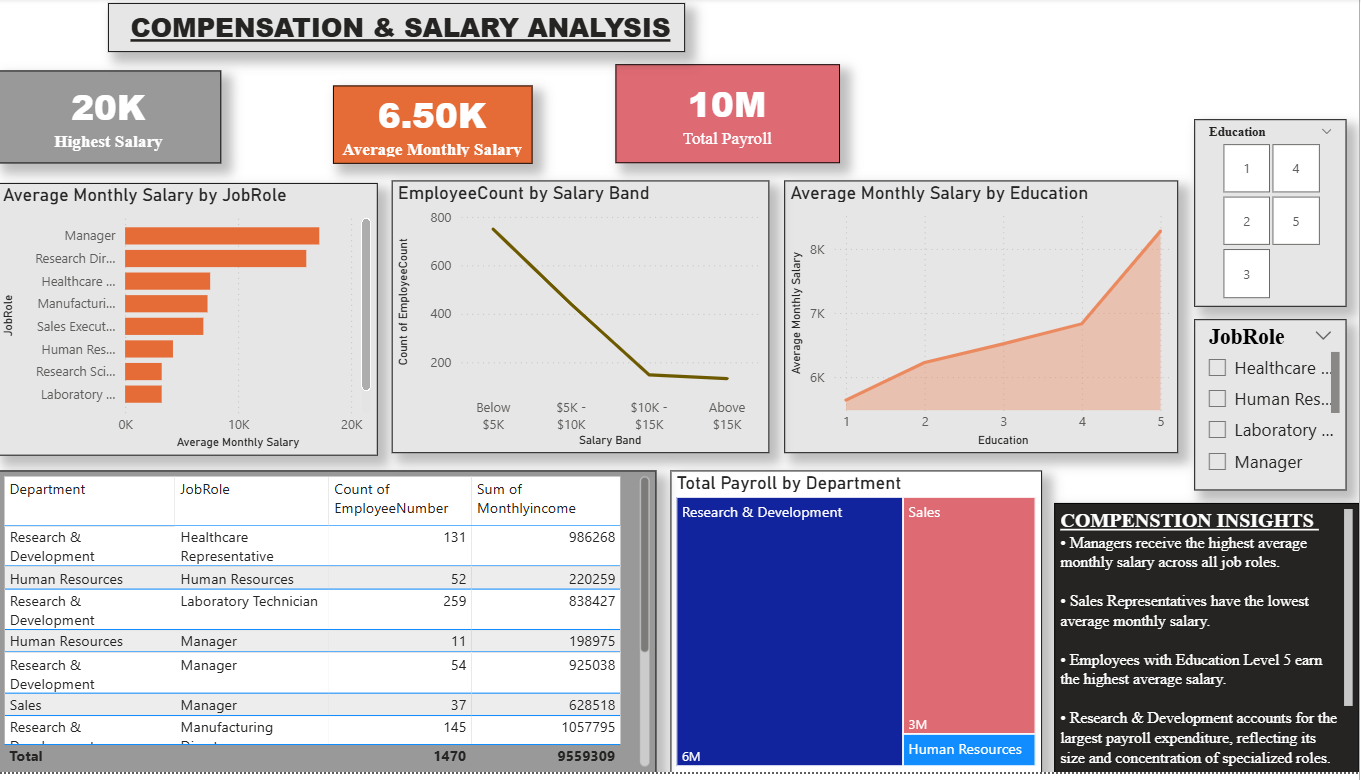

Layout of this report page (visuals, bound fields, positions):
{"tool":"powerbi","page":{"name":"Compensation & Salary Analysis","canvas":[1280,720],"ordinal":3},"visuals":[{"type":"card","fields":{"Values":["HR-Employee-Attrition.Highest Salary"]},"box":[12.3,67.2,208.6,86.4],"z":0},{"type":"card","fields":{"Values":["HR-Employee-Attrition.Total Payroll"]},"box":[588.7,61.7,208.6,91.9],"z":1000},{"type":"card","fields":{"Values":["HR-Employee-Attrition.Average Monthly Income"]},"box":[325.2,81,185.2,72.7],"z":2000},{"type":"barChart","fields":{"Category":["HR-Employee-Attrition.JobRole"],"Y":["HR-Employee-Attrition.Average Monthly Salary"]},"box":[12.3,171.5,354,253.9],"z":3000},{"type":"stackedAreaChart","fields":{"Category":["HR-Employee-Attrition.Education"],"Y":["HR-Employee-Attrition.Average Monthly Salary"]},"box":[745.1,170.2,366.4,253.9],"z":4000},{"type":"treemap","fields":{"Group":["HR-Employee-Attrition.Department"],"Values":["HR-Employee-Attrition.Total Payroll"]},"box":[639.5,439.1,345.8,281.3],"z":5000},{"type":"tableEx","fields":{"Values":["HR-Employee-Attrition.Department","HR-Employee-Attrition.JobRole","CountNonNull(HR-Employee-Attrition.EmployeeNumber)","Sum(HR-Employee-Attrition.MonthlyIncome)"]},"box":[12.3,439.1,613.4,281.3],"z":6000},{"type":"lineChart","title":"EmployeeCount by Salary Band","fields":{"Category":["HR-Employee-Attrition.Salary Band"],"Y":["CountNonNull(HR-Employee-Attrition.EmployeeCount)"]},"box":[380.1,170.2,351.3,253.9],"z":7000},{"type":"textbox","box":[116.6,4.1,536.5,45.3],"z":8000},{"type":"textbox","box":[996.2,469.3,284,251.1],"z":9000},{"type":"slicer","fields":{"Values":["HR-Employee-Attrition.Education"]},"box":[1126.6,112.5,141.3,174.3],"z":10000},{"type":"slicer","fields":{"Values":["HR-Employee-Attrition.JobRole"]},"box":[1126.6,299.1,141.3,159.2],"z":11000}]}

Visuals, with their boxes in screenshot pixels (x1, y1, x2, y2), scaled from the page's 1280x720 canvas onto the 1361x780 screenshot:
card - HR-Employee-Attrition.Highest Salary: 13, 73, 235, 166
card - HR-Employee-Attrition.Total Payroll: 626, 67, 848, 166
card - HR-Employee-Attrition.Average Monthly Income: 346, 88, 543, 167
barChart - HR-Employee-Attrition.JobRole x HR-Employee-Attrition.Average Monthly Salary: 13, 186, 389, 461
stackedAreaChart - HR-Employee-Attrition.Education x HR-Employee-Attrition.Average Monthly Salary: 792, 184, 1182, 459
treemap - HR-Employee-Attrition.Department x HR-Employee-Attrition.Total Payroll: 680, 476, 1048, 779
tableEx - HR-Employee-Attrition.Department x HR-Employee-Attrition.JobRole: 13, 476, 665, 779
"EmployeeCount by Salary Band" lineChart: 404, 184, 778, 459
textbox: 124, 4, 694, 54
textbox: 1059, 508, 1360, 779
slicer - HR-Employee-Attrition.Education: 1198, 122, 1348, 311
slicer - HR-Employee-Attrition.JobRole: 1198, 324, 1348, 496
